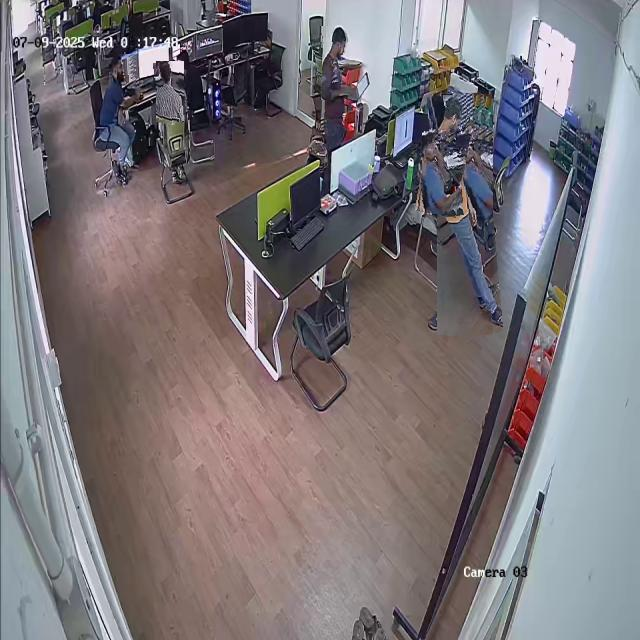person: (432, 93, 498, 336), (96, 55, 138, 181), (315, 26, 351, 144), (419, 130, 467, 216), (154, 60, 186, 123)
